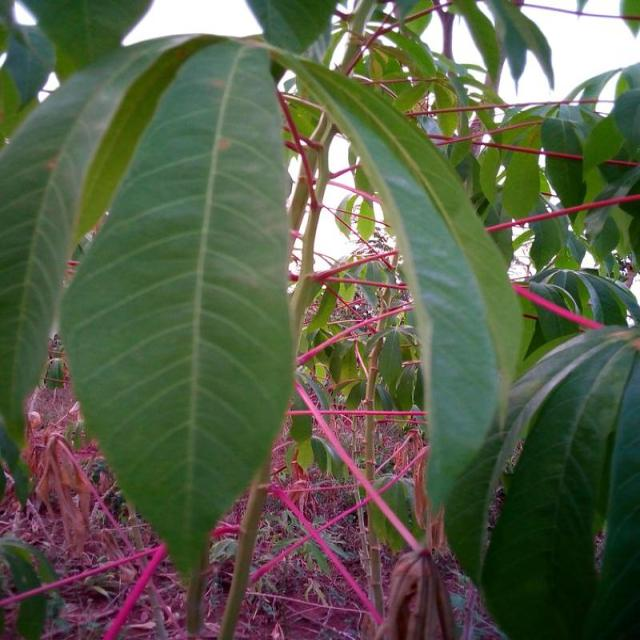cassava leaf: (2, 30, 297, 593), (250, 30, 526, 525)
